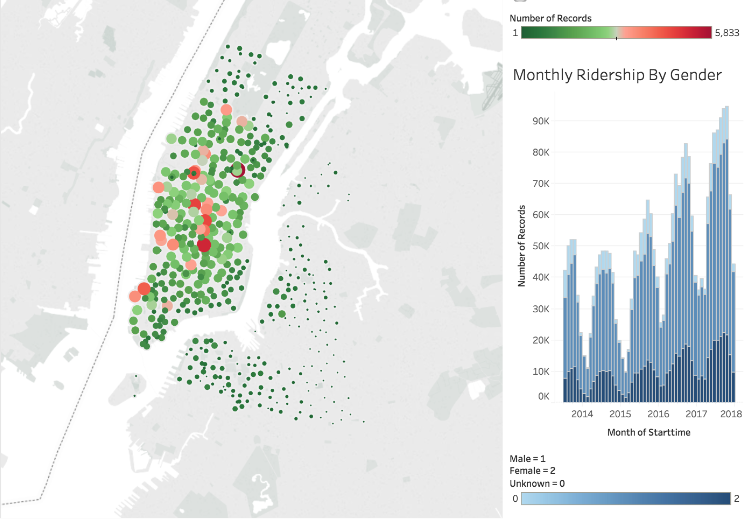

The page's visual inventory and layout, read from the dashboard file:
{"tool":"tableau","page":{"name":"Dashboard 1","canvas":[1000,800],"ordinal":0},"visuals":[{"type":"worksheet","title":"Dynamic Station Utilization","mark":"Automatic","rows":["start station latitude"],"cols":["start station longitude"],"box":[8,8,669,784]},{"type":"legend","title":"Dynamic Station Utilization","param":"[federated.00equ4f16sc9oo17ptfnh0zpnsc7].[sum:Number of Records:qk]","box":[677,8,315,146]},{"type":"legend","title":"Dynamic Station Utilization","param":"[federated.00equ4f16sc9oo17ptfnh0zpnsc7].[sum:Number of Records:qk]","box":[677,154,315,65]},{"type":"worksheet","title":"Monthly Ridership By Gender","mark":"Bar","rows":["Number of Records"],"cols":["starttime"],"box":[677,219,315,474]},{"type":"legend","title":"Monthly Ridership By Gender","param":"[federated.00equ4f16sc9oo17ptfnh0zpnsc7].[none:gender:qk]","box":[677,693,315,99]}]}

Visuals, with their boxes on the page's 1000x800 design canvas (x1, y1, x2, y2). These are canvas units, not pixel positions in the 754x524 screenshot, which may show the page scaled, cropped or inside an application window:
"Dynamic Station Utilization" worksheet: <region>8, 8, 677, 792</region>
"Dynamic Station Utilization" legend: <region>677, 8, 992, 154</region>
"Dynamic Station Utilization" legend: <region>677, 154, 992, 219</region>
"Monthly Ridership By Gender" worksheet (Bar marks): <region>677, 219, 992, 693</region>
"Monthly Ridership By Gender" legend: <region>677, 693, 992, 792</region>
